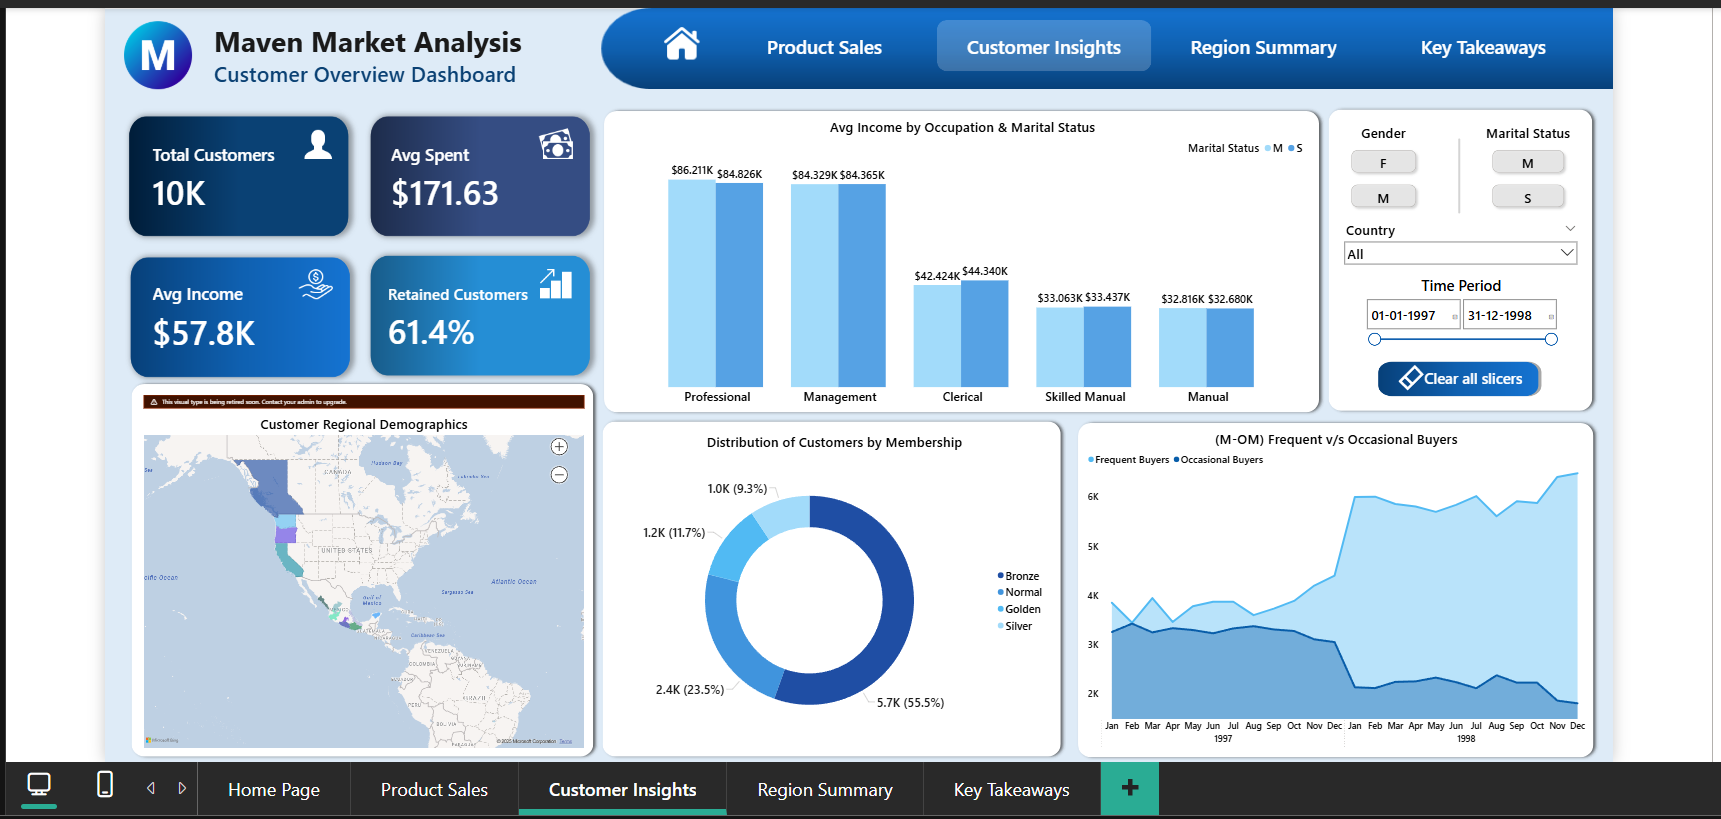

The page's visual inventory and layout, read from the dashboard file:
{"tool":"powerbi","page":{"name":"Customer Insights","canvas":[3000,1500],"ordinal":2},"visuals":[{"type":"shape","box":[2423.9,191.6,546.5,621.1],"z":0},{"type":"image","box":[2526.8,699.1,335.9,78.7],"z":0,"group":"g1"},{"type":"image","box":[24.8,21.3,163.3,145.5],"z":1000},{"type":"textbox","box":[212.9,21.3,692,145.5],"z":2000},{"type":"image","box":[511,472,481.2,281.3],"z":2000,"group":"g5"},{"type":"image","box":[31.9,475.6,481.2,281.3],"z":3000,"group":"g4"},{"type":"image","box":[30.5,193.2,481.2,281.3],"z":5000,"group":"g2"},{"type":"image","box":[511.7,193.2,481.2,281.3],"z":6000,"group":"g3"},{"type":"slicer","title":"Time Period","fields":{"Values":["Calendar.date"]},"box":[2498.4,532.3,401,166.8],"z":8000},{"type":"group","id":"g1","title":"Group 1","box":[2526.8,699.1,337.1,78.1],"z":9000},{"type":"shape","box":[983.1,195.2,1444.4,621.1],"z":10000},{"type":"shape","box":[979.5,812.7,933.4,688.5],"z":11000},{"type":"shape","box":[42.6,738.2,940.5,763],"z":12000},{"type":"shape","box":[1924.7,814.1,1047.1,687],"z":13000},{"type":"advancedSlicerVisual","title":"Gender","fields":{"Values":["Customers.gender"]},"box":[2462.9,230.7,163.3,184.5],"z":14000},{"type":"advancedSlicerVisual","title":"Marital Status","fields":{"Values":["Customers.marital_status"]},"box":[2743.3,230.7,177.4,184.5],"z":15000},{"type":"group","id":"g2","title":"Group 2","box":[30.5,193.2,481.2,281.3],"z":16000},{"type":"group","id":"g3","title":"Group 3","box":[511.7,193.2,481.2,281.3],"z":17000},{"type":"image","box":[830.4,503.9,134.9,78.1],"z":17000,"group":"g5"},{"type":"actionButton","box":[2560.1,705.2,272.4,63.6],"z":17000,"group":"g1"},{"type":"group","id":"g4","title":"Group 4","box":[31.9,475.6,481.2,281.3],"z":18000},{"type":"clusteredColumnChart","title":"Avg Income by Occupation & Marital Status","fields":{"Category":["Customers.occupation"],"Series":["Customers.marital_status"],"Y":["Avg(Customers.income)"]},"box":[1018.5,216.5,1377,582],"z":19000},{"type":"group","id":"g5","title":"Group 5","box":[511,472,481.2,281.3],"z":20000},{"type":"cardVisual","fields":{"Data":["Measure_Table.Customer Retention %"]},"box":[546.5,528.8,351.3,177.4],"z":20001,"group":"g5"},{"type":"donutChart","title":"Distribution of Customers by Membership","fields":{"Y":["CountNonNull(Customers.customer_id)"],"Category":["Customers.member_card"]},"box":[1022.1,844.6,855.3,631.7],"z":21000},{"type":"image","box":[351.3,512,134.9,78.1],"z":21004,"group":"g4"},{"type":"image","box":[830.5,230.7,134.9,78.1],"z":22000,"group":"g3"},{"type":"filledMap","title":"Customer Regional Demographics","fields":{"Category":["Customers.customer_state"],"Series":["Customers.customer_state"]},"box":[71,770.1,887.2,706.2],"z":22000},{"type":"cardVisual","fields":{"Data":["Measure_Table.Total Customers"]},"box":[78.1,248.5,287.5,170.3],"z":23000,"group":"g2"},{"type":"slicer","fields":{"Values":["Customers.customer_country"]},"box":[2455.9,418.8,482.7,113.6],"z":23000},{"type":"image","box":[365.5,230.7,120.7,78.1],"z":24000,"group":"g2"},{"type":"shape","box":[2640.4,259.1,106.5,149.1],"z":24000},{"type":"cardVisual","fields":{"Data":["Measure_Table.Avg Spent"]},"box":[553.6,248.5,276.8,170.3],"z":25000,"group":"g3"},{"type":"areaChart","title":"(M-OM) Frequent v/s Occasional Buyers","fields":{"Category":["Calendar.Year","Calendar.Month"],"Y":["Measure_Table.Frequent Buyer_count","Measure_Table.Occasional Buyer_count"]},"box":[1948.9,838.3,1001.7,641.6],"z":25000},{"type":"pageNavigator","box":[1217.3,24.8,1739,102.9],"z":25001},{"type":"image","box":[1077.3,20.9,140.3,104.4],"z":25002},{"type":"cardVisual","fields":{"Data":["Measure_Table.Avg Income"]},"box":[78,528.8,276.8,170.3],"z":26000,"group":"g4"}]}

Visuals, with their boxes on the page's 3000x1500 design canvas (x1, y1, x2, y2). These are canvas units, not pixel positions in the 1721x819 screenshot, which may show the page scaled, cropped or inside an application window:
shape: region(2424, 192, 2970, 813)
image: region(2527, 699, 2863, 778)
image: region(25, 21, 188, 167)
textbox: region(213, 21, 905, 167)
image: region(511, 472, 992, 753)
image: region(32, 476, 513, 757)
image: region(30, 193, 512, 474)
image: region(512, 193, 993, 474)
"Time Period" slicer: region(2498, 532, 2899, 699)
"Group 1" group: region(2527, 699, 2864, 777)
shape: region(983, 195, 2428, 816)
shape: region(980, 813, 1913, 1501)
shape: region(43, 738, 983, 1501)
shape: region(1925, 814, 2972, 1501)
"Gender" advancedSlicerVisual: region(2463, 231, 2626, 415)
"Marital Status" advancedSlicerVisual: region(2743, 231, 2921, 415)
"Group 2" group: region(30, 193, 512, 474)
"Group 3" group: region(512, 193, 993, 474)
image: region(830, 504, 965, 582)
actionButton: region(2560, 705, 2832, 769)
"Group 4" group: region(32, 476, 513, 757)
"Avg Income by Occupation & Marital Status" clusteredColumnChart: region(1018, 216, 2396, 798)
"Group 5" group: region(511, 472, 992, 753)
cardVisual - Measure_Table.Customer Retention %: region(546, 529, 898, 706)
"Distribution of Customers by Membership" donutChart: region(1022, 845, 1877, 1476)
image: region(351, 512, 486, 590)
image: region(830, 231, 965, 309)
"Customer Regional Demographics" filledMap: region(71, 770, 958, 1476)
cardVisual - Measure_Table.Total Customers: region(78, 248, 366, 419)
slicer - Customers.customer_country: region(2456, 419, 2939, 532)
image: region(366, 231, 486, 309)
shape: region(2640, 259, 2747, 408)
cardVisual - Measure_Table.Avg Spent: region(554, 248, 830, 419)
"(M-OM) Frequent v/s Occasional Buyers" areaChart: region(1949, 838, 2951, 1480)
pageNavigator: region(1217, 25, 2956, 128)
image: region(1077, 21, 1218, 125)
cardVisual - Measure_Table.Avg Income: region(78, 529, 355, 699)
